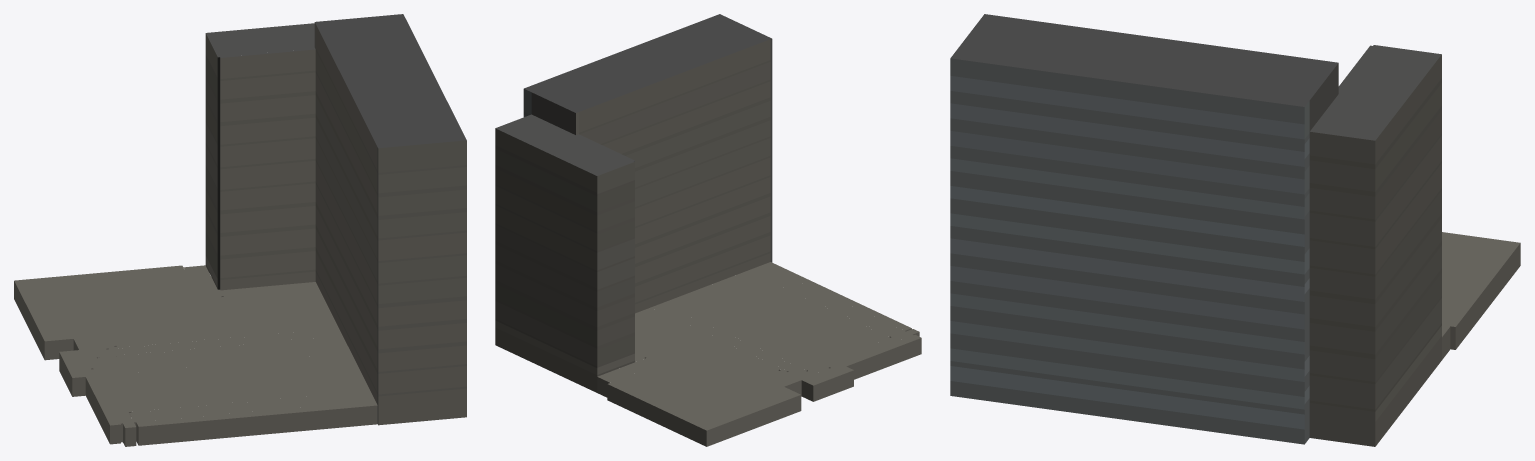
The model's file is t_-2_2.far.glb.
3 views of the same model, side by side, from view 1: azimuth 30°, elevation 25°; view 2: azimuth 150°, elevation 25°; view 3: azimuth 270°, elevation 25° (orthographic). The views are drawn at different scales.
Parts seen in each view (by area): view 1: opaque; view 2: opaque; view 3: opaque.
Part boxes in pixels (x1,y1,x2,y2): opaque: (14,14,466,446); opaque: (495,14,921,446); opaque: (950,14,1520,446).
Size of the model in its own units: 97.2 by 67.49 by 103.
Materials: 1 (1 with a texture image).
